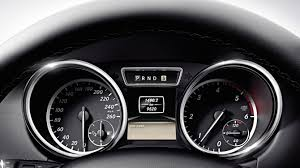Digital_Meter: (133, 95, 166, 120)
